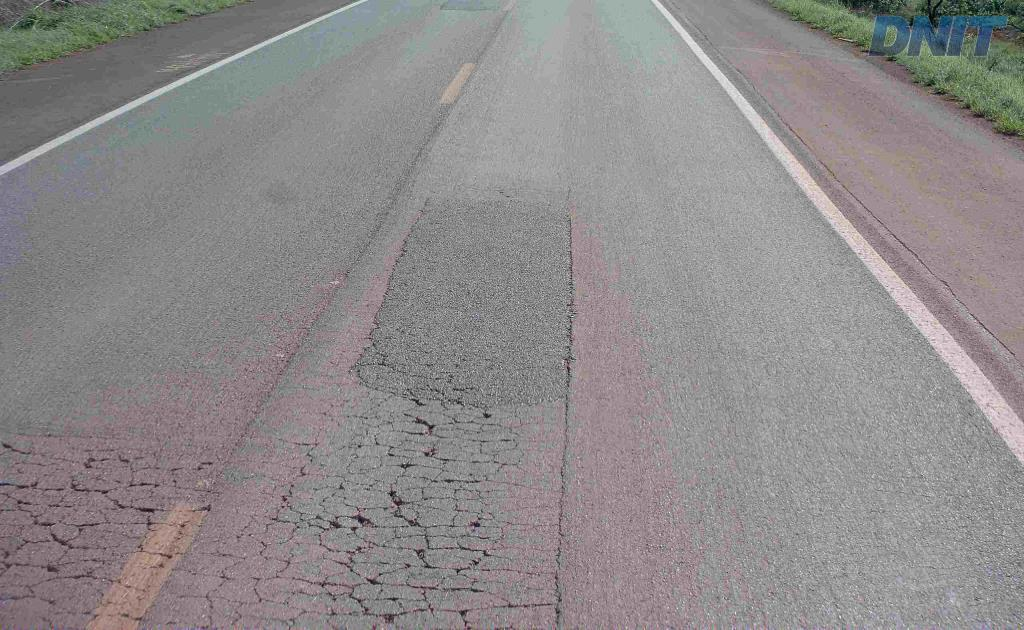crack: (307, 476, 512, 576), (394, 439, 482, 488), (340, 577, 407, 624)
